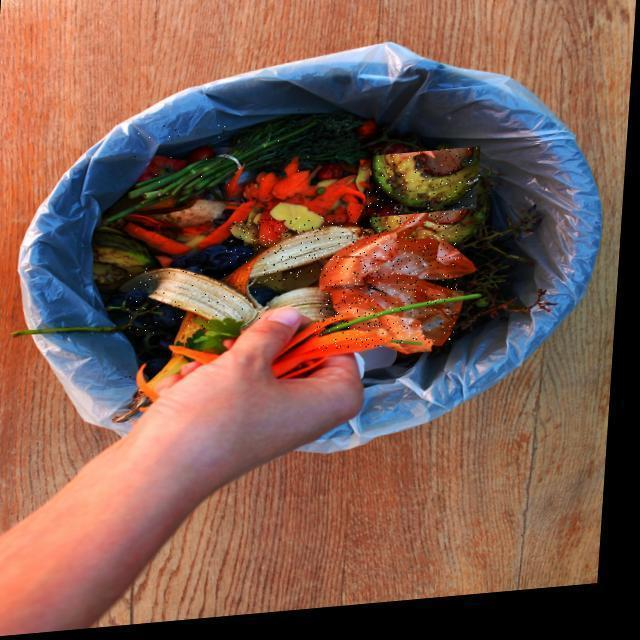trashbin: (15, 41, 603, 454)
